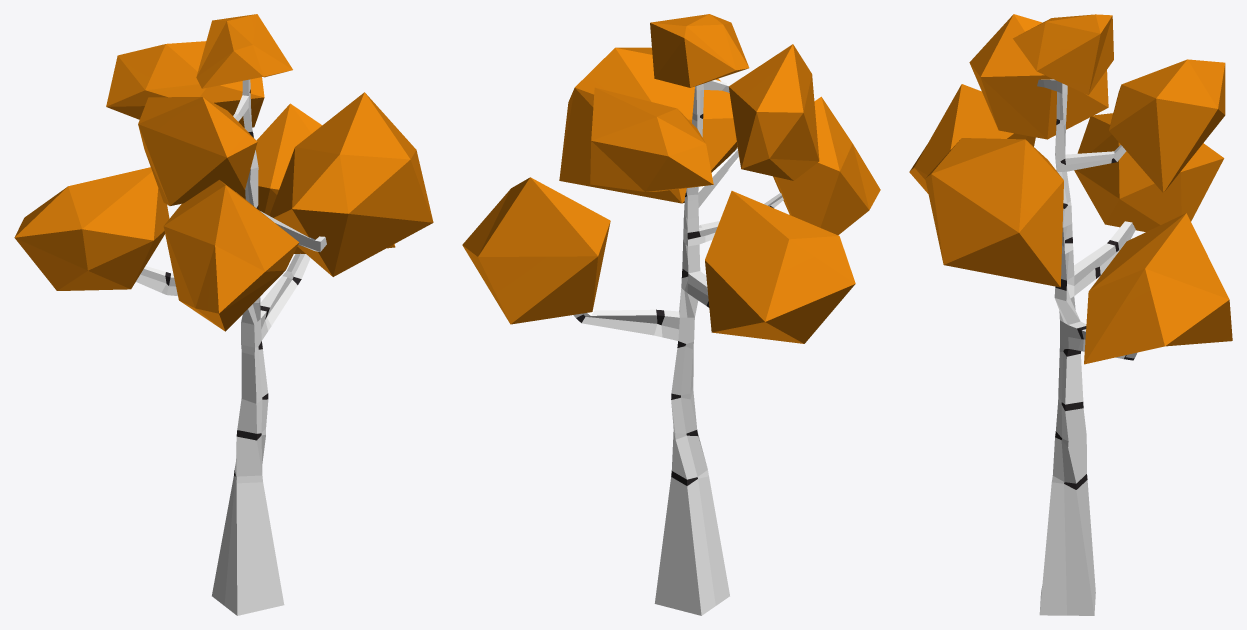
File: birch-tree-orange-1.gltf
3 views of the same model, side by side, from view 1: azimuth 30°, elevation 25°; view 2: azimuth 150°, elevation 25°; view 3: azimuth 270°, elevation 25° (orthographic). The views are drawn at different scales.
Parts seen in each view (by area): view 1: Cube; view 2: Cube; view 3: Cube.
Boxes of the visible parts, x1=… form: Cube: x1=14, y1=14, x2=433, y2=615; Cube: x1=462, y1=14, x2=880, y2=615; Cube: x1=909, y1=14, x2=1232, y2=615.
Bounding box in the file's own units: 16.55 × 24.18 × 12.1.
Materials: 1 (1 with a texture image).
